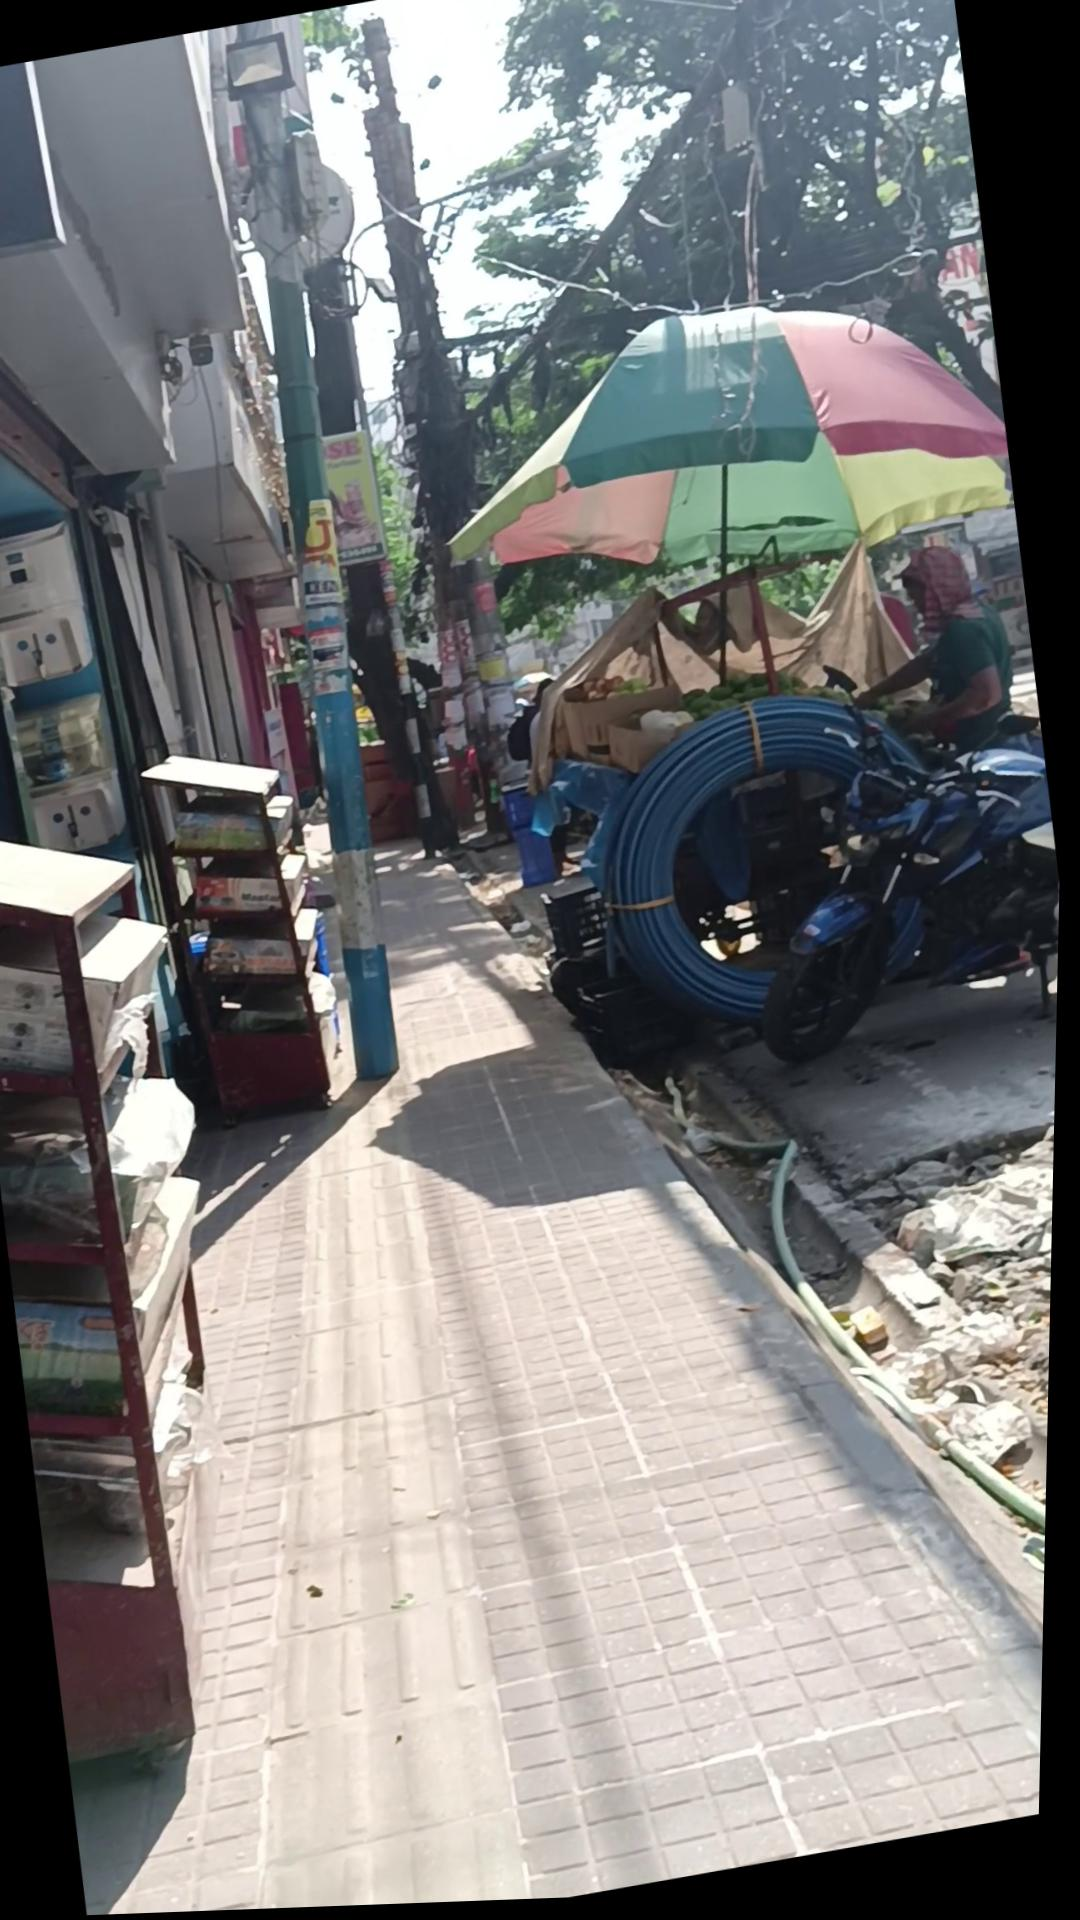Broken-road: (599, 985, 1063, 1875)
Cat: (497, 777, 567, 894)
Construction-barrier: (723, 700, 1067, 1077)
Crosswalk: (0, 793, 295, 1779), (133, 728, 368, 1138)
Dog: (200, 16, 436, 1093)
Garbage: (0, 711, 1067, 1920)
Obstacle: (0, 26, 376, 1122)
